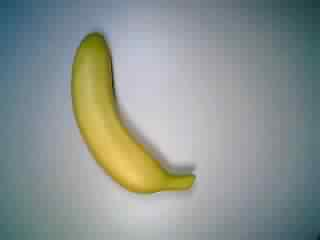banana: (64, 30, 200, 202)
